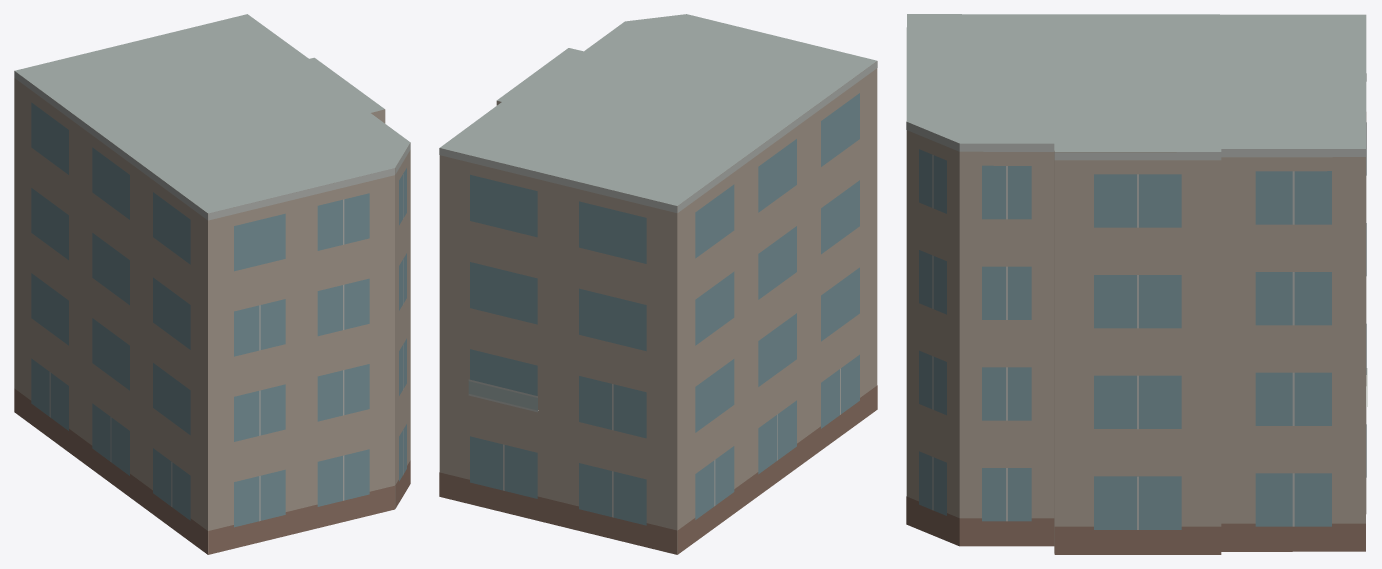
Rendered from survey-upis-33007948.glb.
3 views of the same model, side by side, from view 1: azimuth 30°, elevation 25°; view 2: azimuth 150°, elevation 25°; view 3: azimuth 270°, elevation 25° (orthographic). The views are drawn at different scales.
Visible parts, largest first — view 1: survey-upis-33007948.tmp; view 2: survey-upis-33007948.tmp; view 3: survey-upis-33007948.tmp.
Boxes of the visible parts, bbox=[...] form: survey-upis-33007948.tmp: bbox=[14, 14, 410, 554]; survey-upis-33007948.tmp: bbox=[439, 14, 877, 554]; survey-upis-33007948.tmp: bbox=[906, 14, 1367, 554].
Size of the model in its own units: 8.68 by 11.8 by 12.25.
